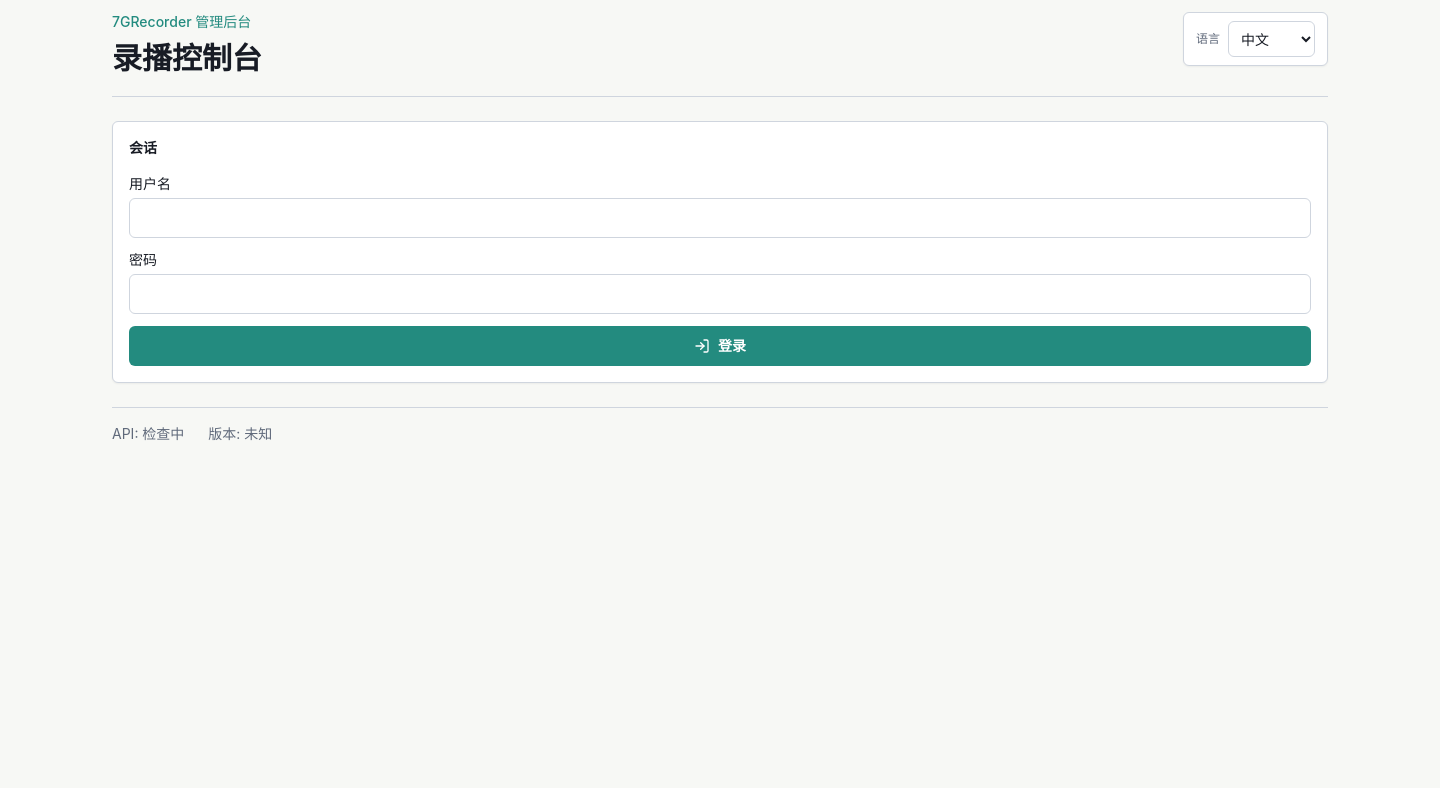
Test case: AdminDashboard › runs local cleanup from the system storage page after confirmation
The image size is (1440, 788).
Select "English" in the dropdown at (1272, 39), box [1228, 21, 1315, 57]
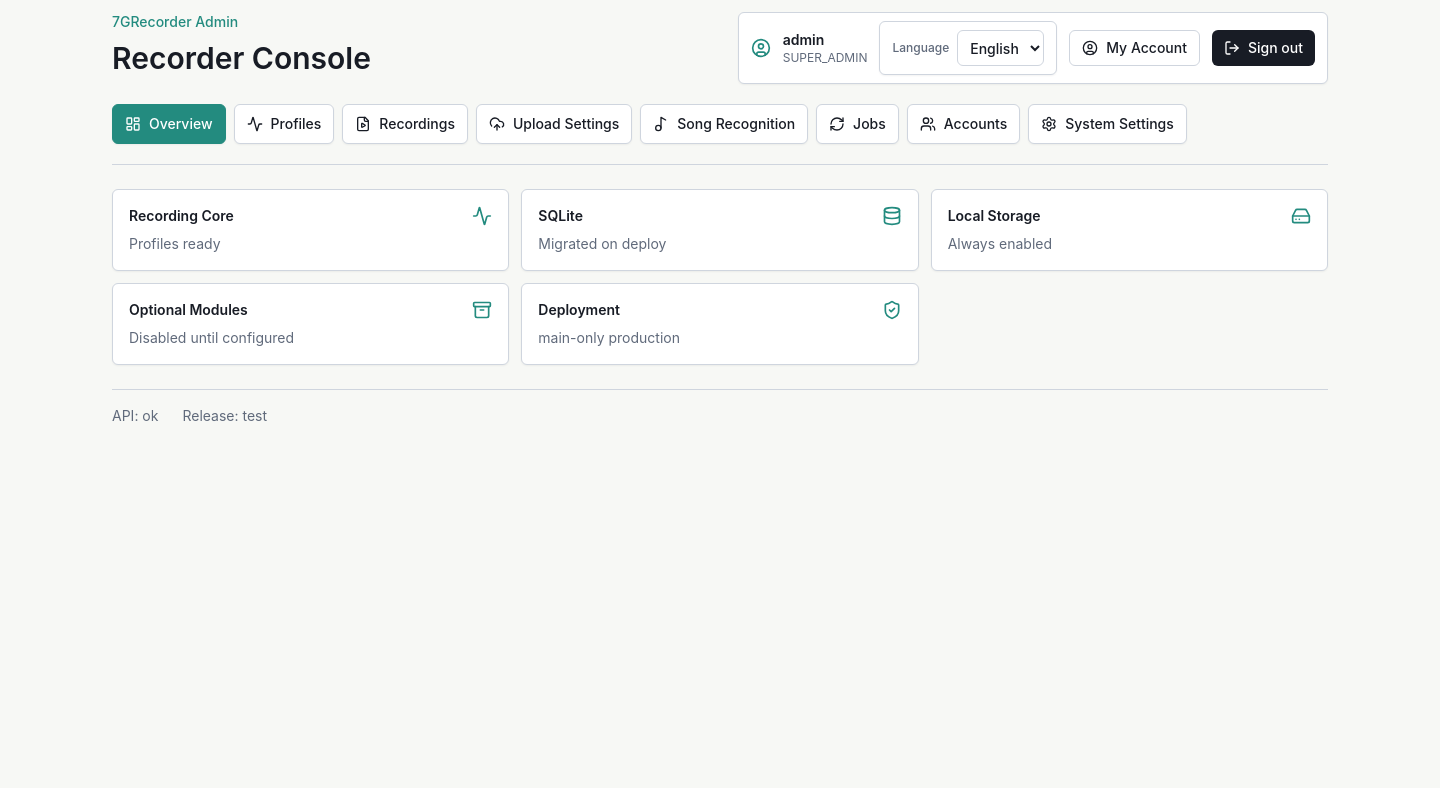
expect the heading "Recorder Console" is shown: met, box [112, 40, 371, 76]
Click the button "System Settings" at (1108, 124), box [1028, 104, 1187, 144]
(page scrolled)
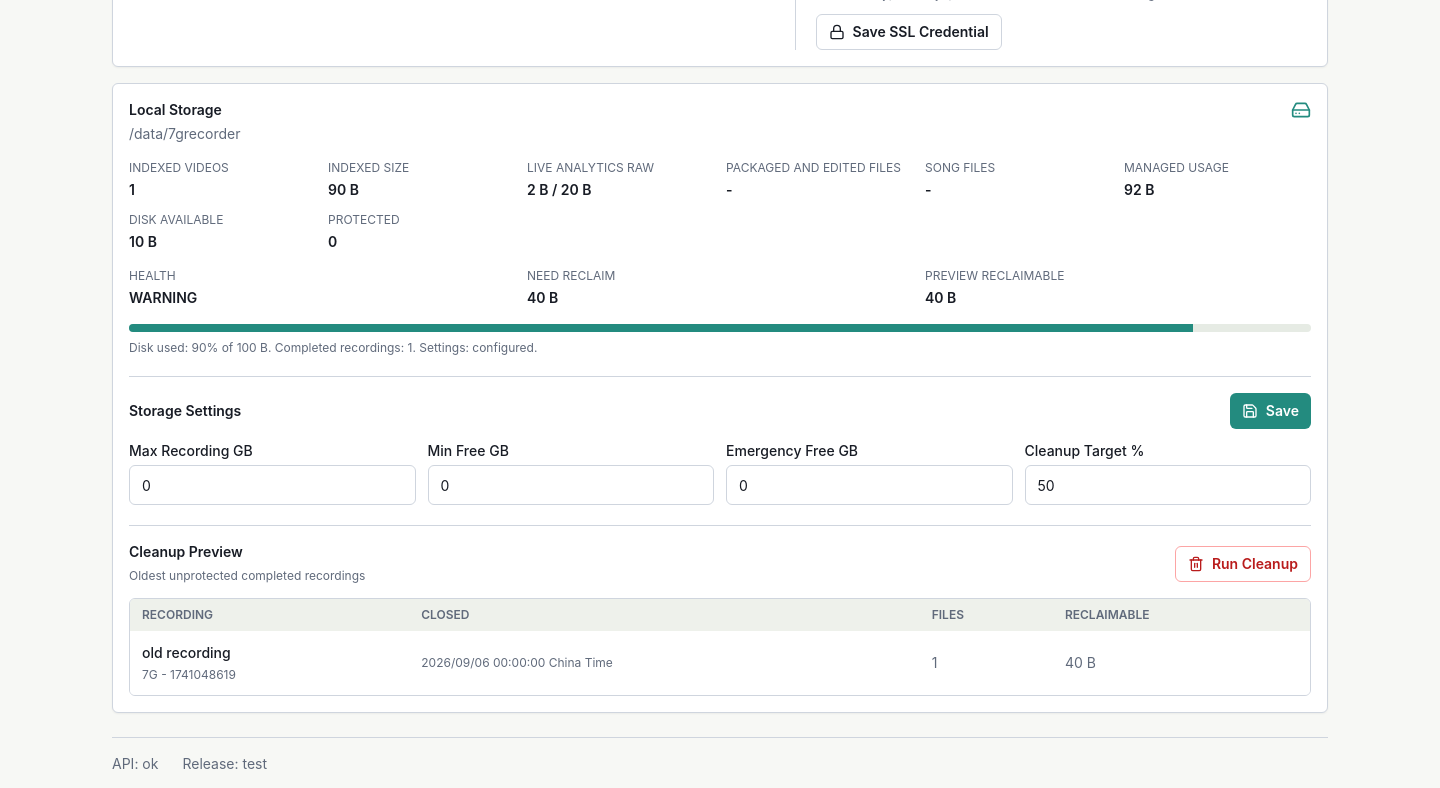
expect the text "old recording" is shown: met, box [142, 644, 231, 661]
Click the button "Run Cleanup" at (1243, 564), box [1175, 546, 1311, 582]
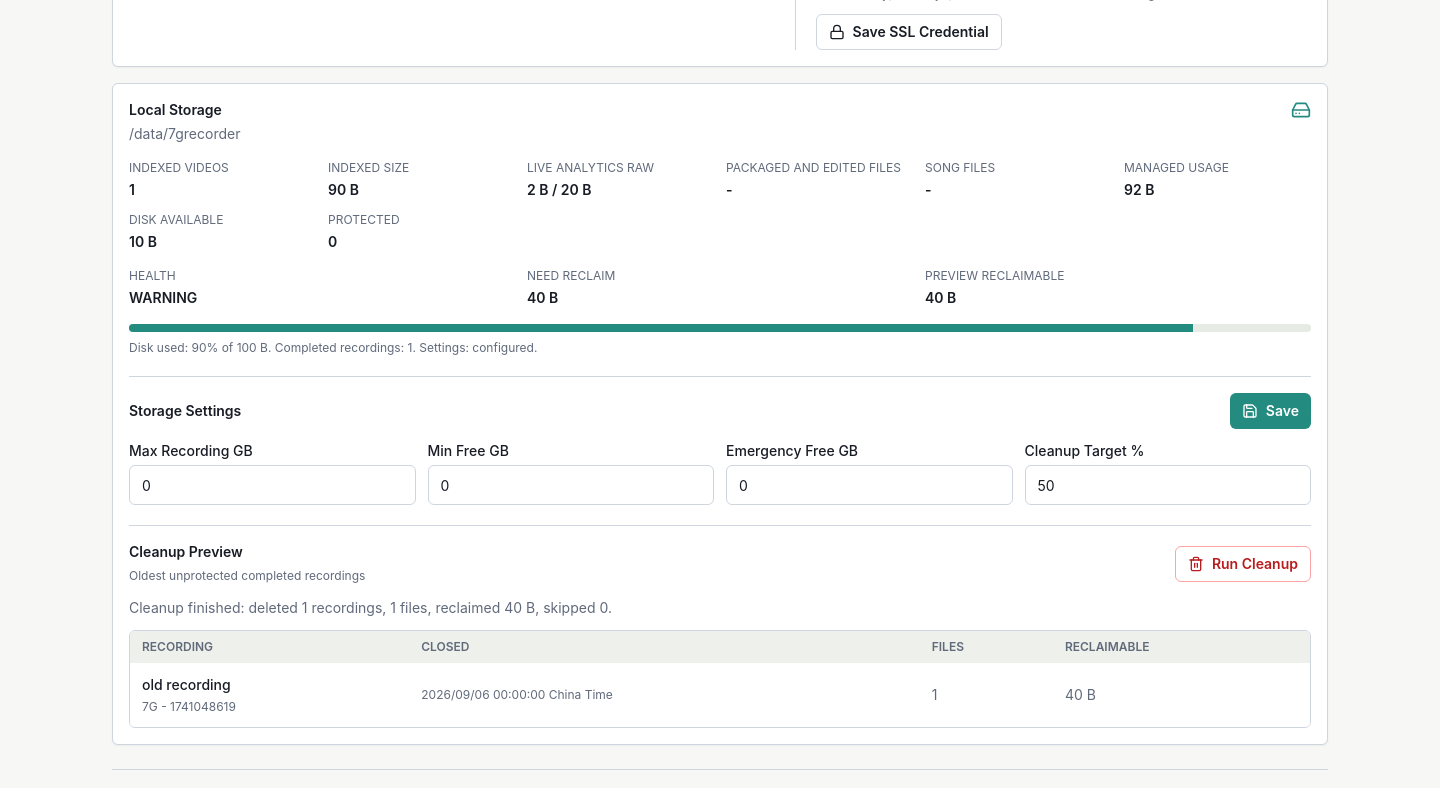
expect the text "Cleanup finished" is shown: met, box [129, 599, 612, 616]
